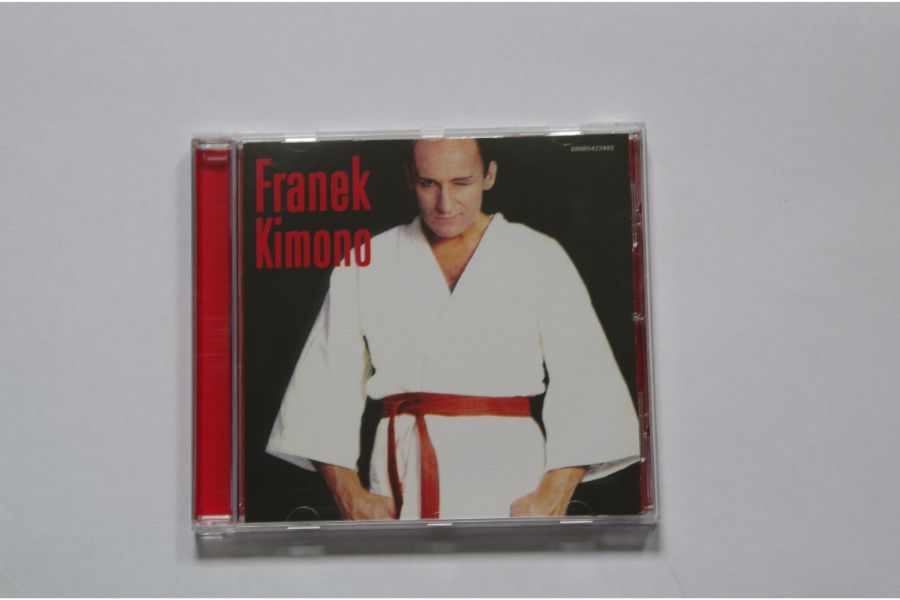album: (190, 120, 665, 544)
